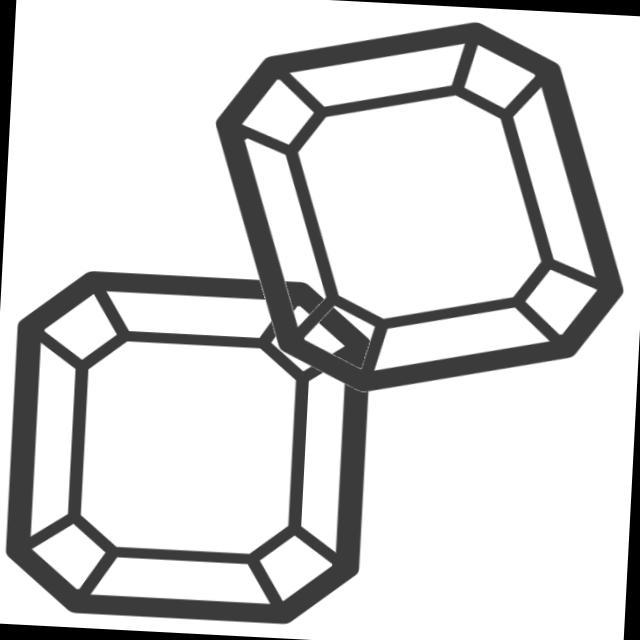emerald: (189, 1, 640, 416), (1, 259, 383, 636)
